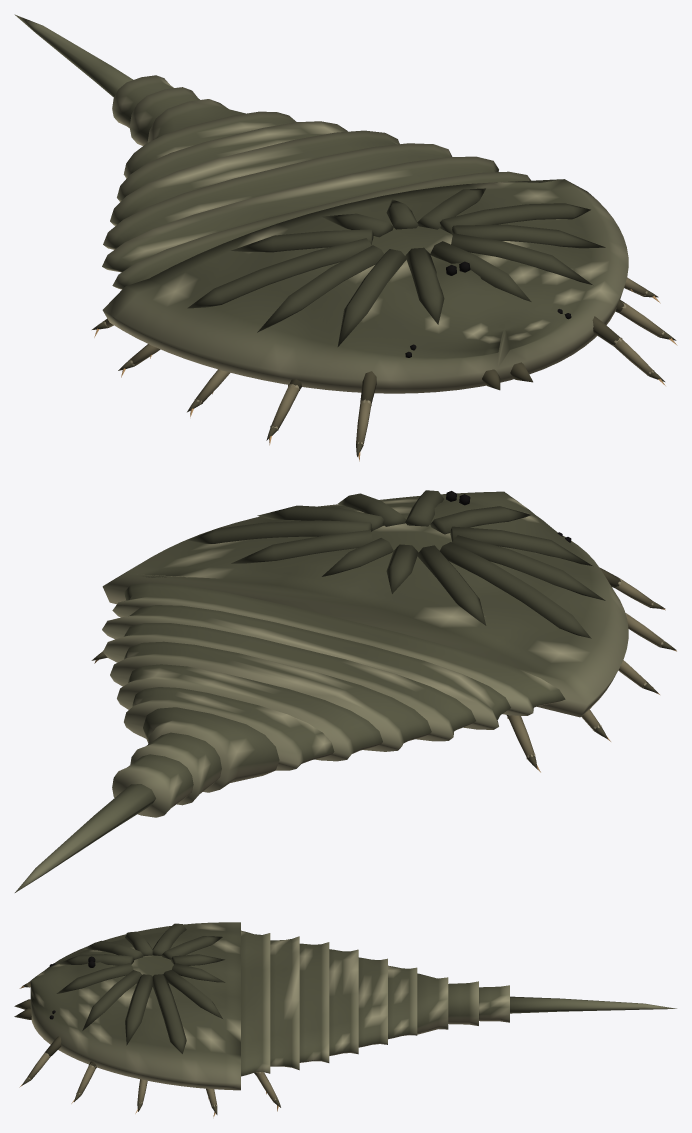
The model's file is BunodesLunula.fbx.
The picture shows the model from 3 angles, top to bottom: view 1: azimuth 30°, elevation 25°; view 2: azimuth 150°, elevation 25°; view 3: azimuth 270°, elevation 25°; orthographic projection. The views are drawn at different scales.
Parts seen in each view (by area): view 1: BunodesLunula; view 2: BunodesLunula; view 3: BunodesLunula.
Part boxes in pixels (x1=…): BunodesLunula: x1=14, y1=14, x2=677, y2=461; BunodesLunula: x1=15, y1=490, x2=676, y2=892; BunodesLunula: x1=14, y1=922, x2=676, y2=1117.
Bounding box in the file's own units: 0.8903 × 0.2144 × 1.58.
